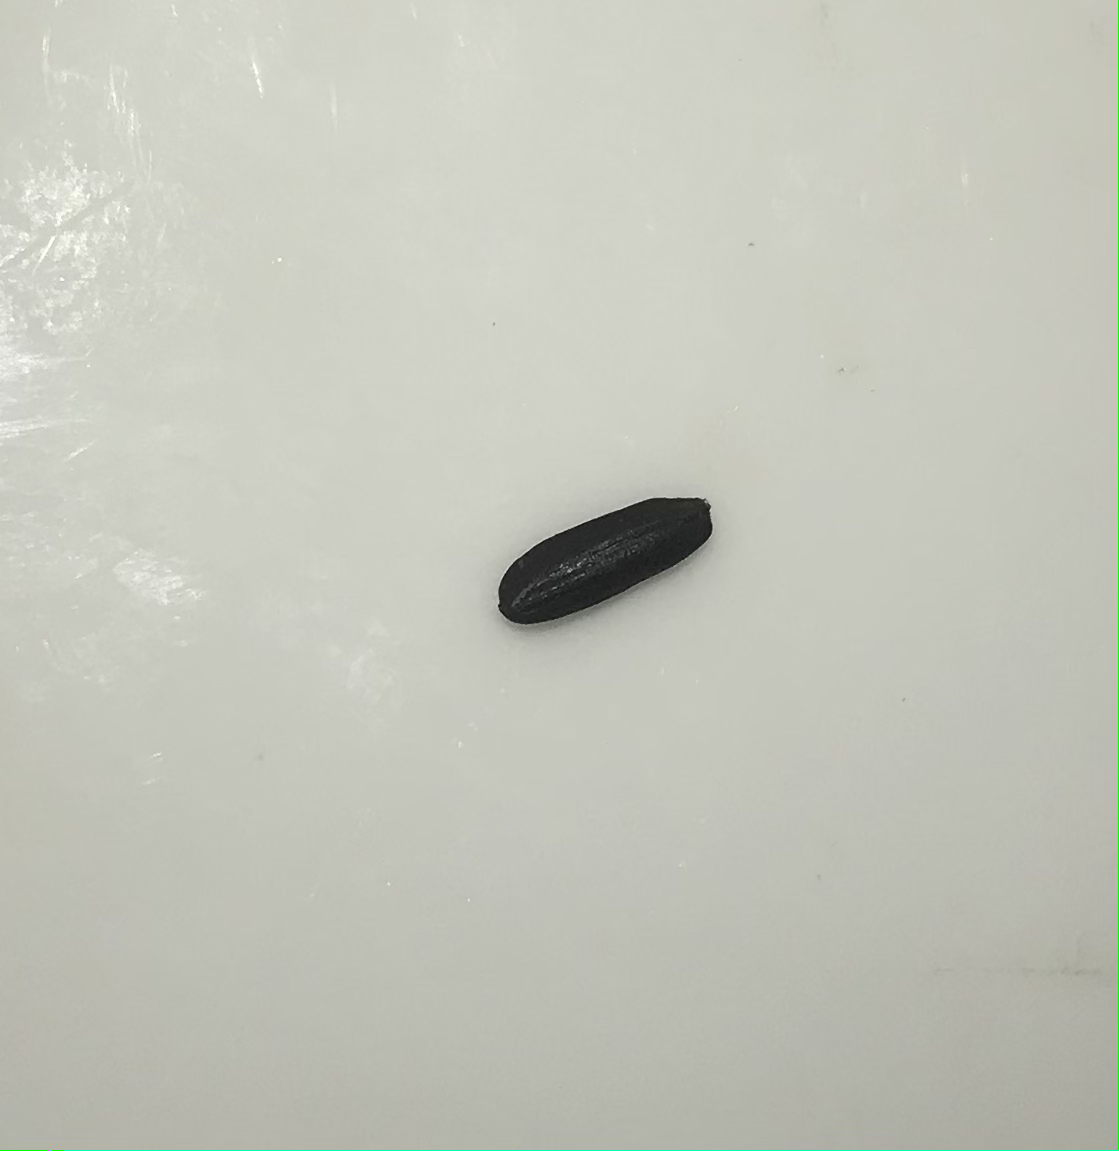Gao Nep Cam: (467, 453, 730, 653)
